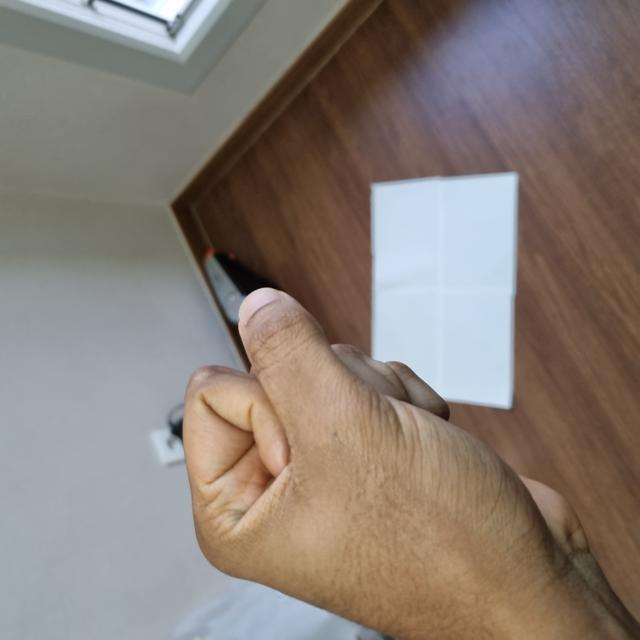Rock: (0, 179, 350, 545)
